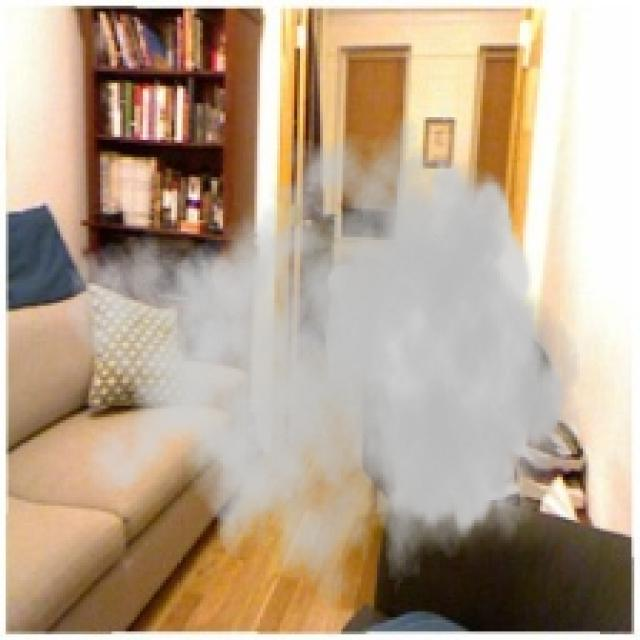smoke: (63, 109, 583, 637)
